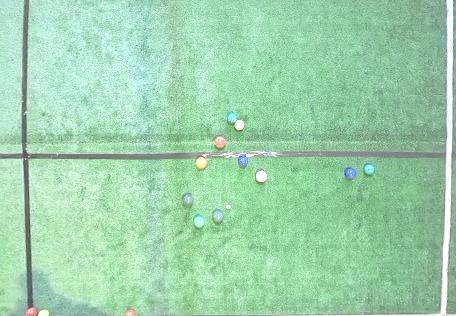blue: (345, 168, 356, 179), (239, 156, 248, 166)
green: (193, 215, 204, 228), (212, 210, 223, 222), (364, 163, 374, 175), (182, 194, 192, 205), (228, 112, 237, 123)
red: (214, 136, 226, 148), (196, 156, 207, 168), (256, 171, 267, 182), (25, 306, 38, 315), (124, 308, 137, 315)
vline: (1, 1, 34, 306), (437, 1, 455, 315)
white: (226, 204, 231, 209)
yellow: (234, 120, 244, 130), (37, 309, 50, 315)
